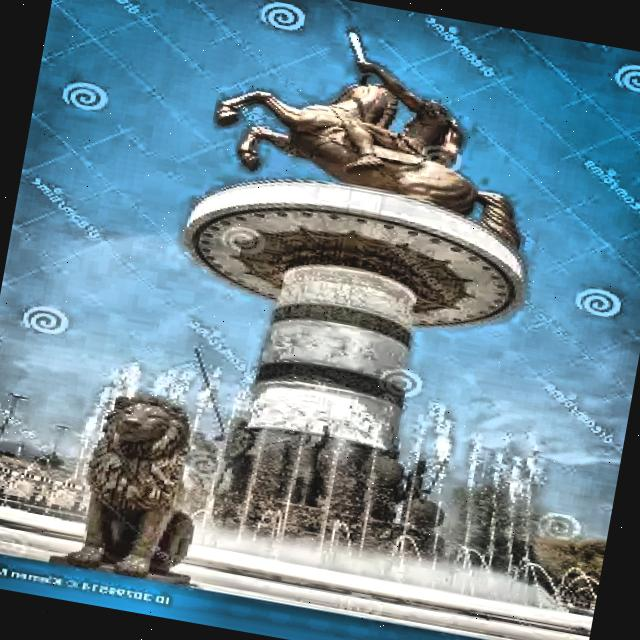alexander the great monument: (147, 8, 640, 594)
